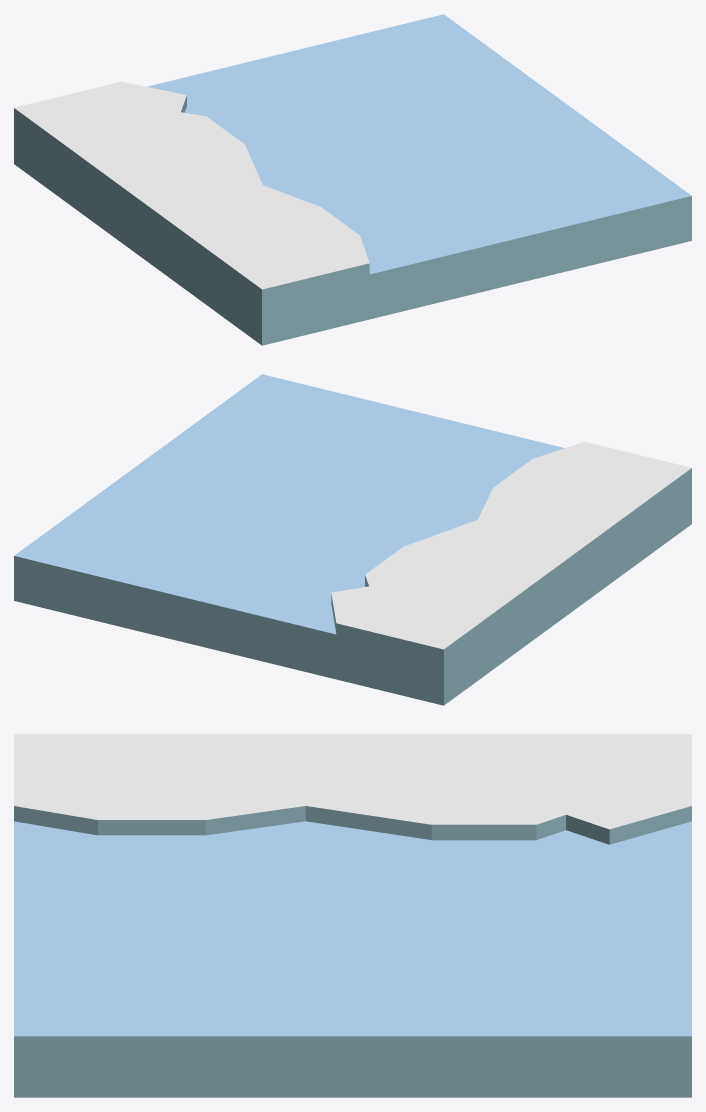
Rendered from Terrain_Tile_Ice_Snow_Water_Bank_01.fbx.
The picture shows the model from 3 angles, top to bottom: view 1: azimuth 30°, elevation 25°; view 2: azimuth 150°, elevation 25°; view 3: azimuth 270°, elevation 25°; orthographic projection. The views are drawn at different scales.
Visible parts, largest first — view 1: Model; view 2: Model; view 3: Model.
Boxes of the visible parts, <box> form: Model: <box>14,14,691,345</box>; Model: <box>14,374,691,705</box>; Model: <box>14,734,691,1097</box>.
Size of the model in its own units: 2000 by 250 by 2000.
